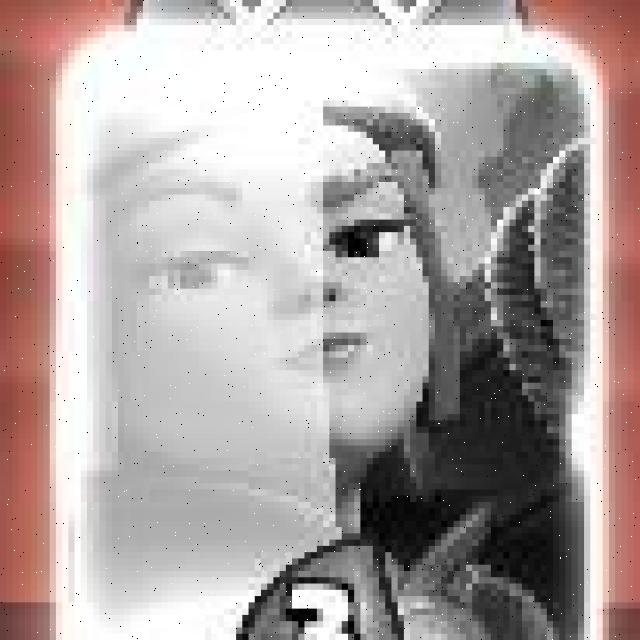Evolved_Firecracker: (50, 24, 599, 640)
